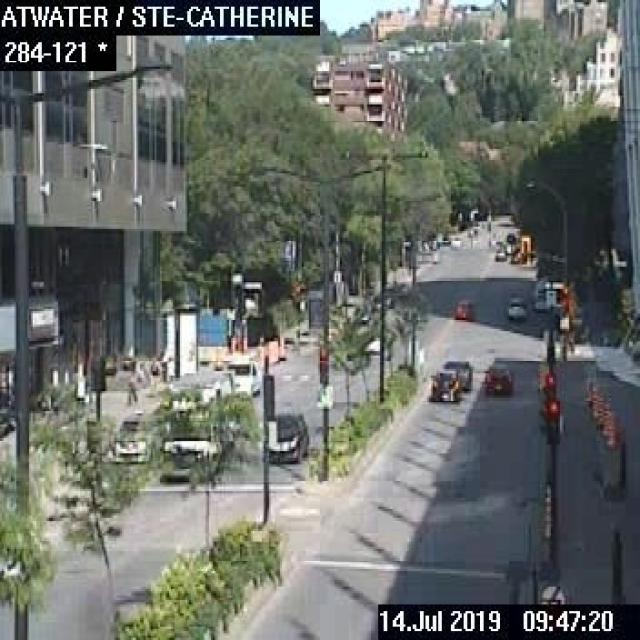construction: (542, 486, 550, 536), (607, 415, 613, 446)
pedestrian: (122, 365, 139, 407), (147, 357, 160, 398)
vehicle: (161, 382, 219, 477), (268, 409, 306, 462), (113, 409, 147, 460), (222, 358, 260, 396), (440, 358, 472, 390), (429, 369, 459, 400), (482, 360, 509, 391), (506, 298, 528, 320), (453, 300, 467, 318), (493, 244, 505, 260)
